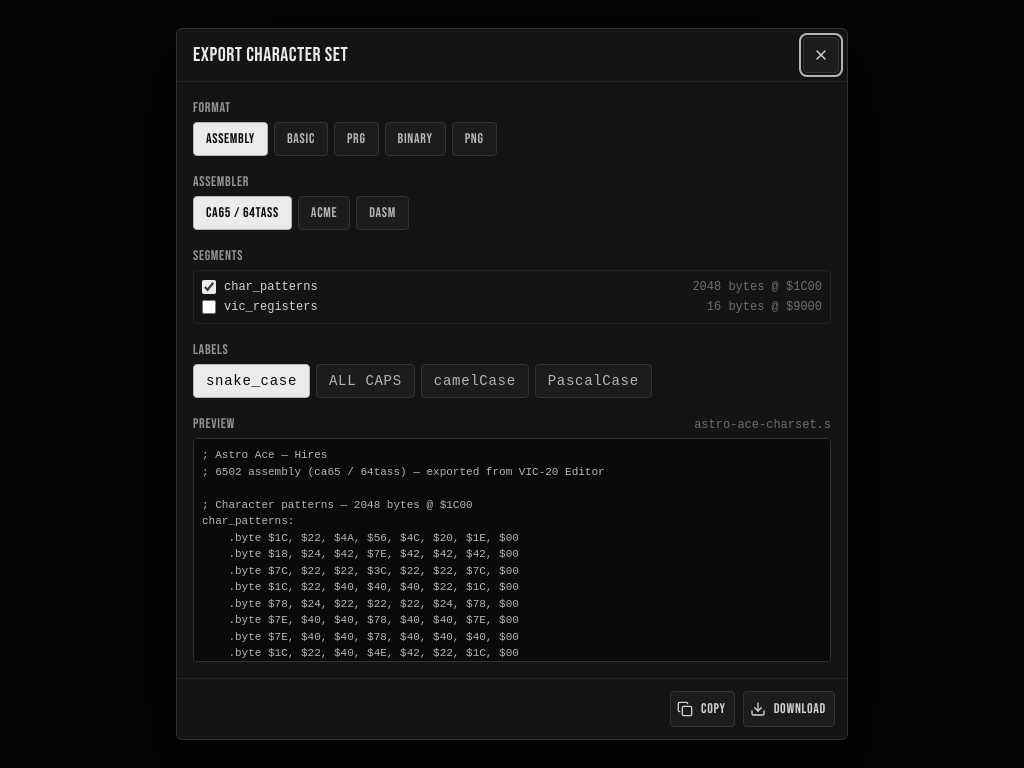
Scenario: ExportDialog › switches dialect and remembers the choice
Click the button "ACME" at (324, 213), box x1=298 y1=196 x2=350 y2=230
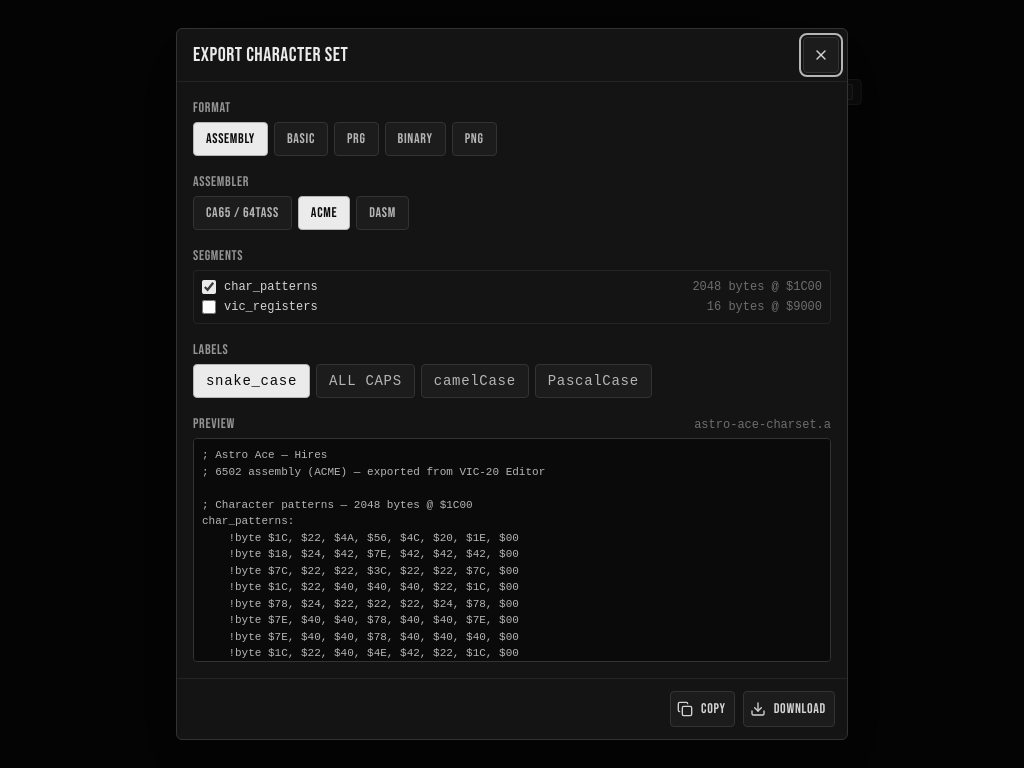
Now the text "astro-ace-charset.a" is shown, box x1=694 y1=417 x2=831 y2=433
